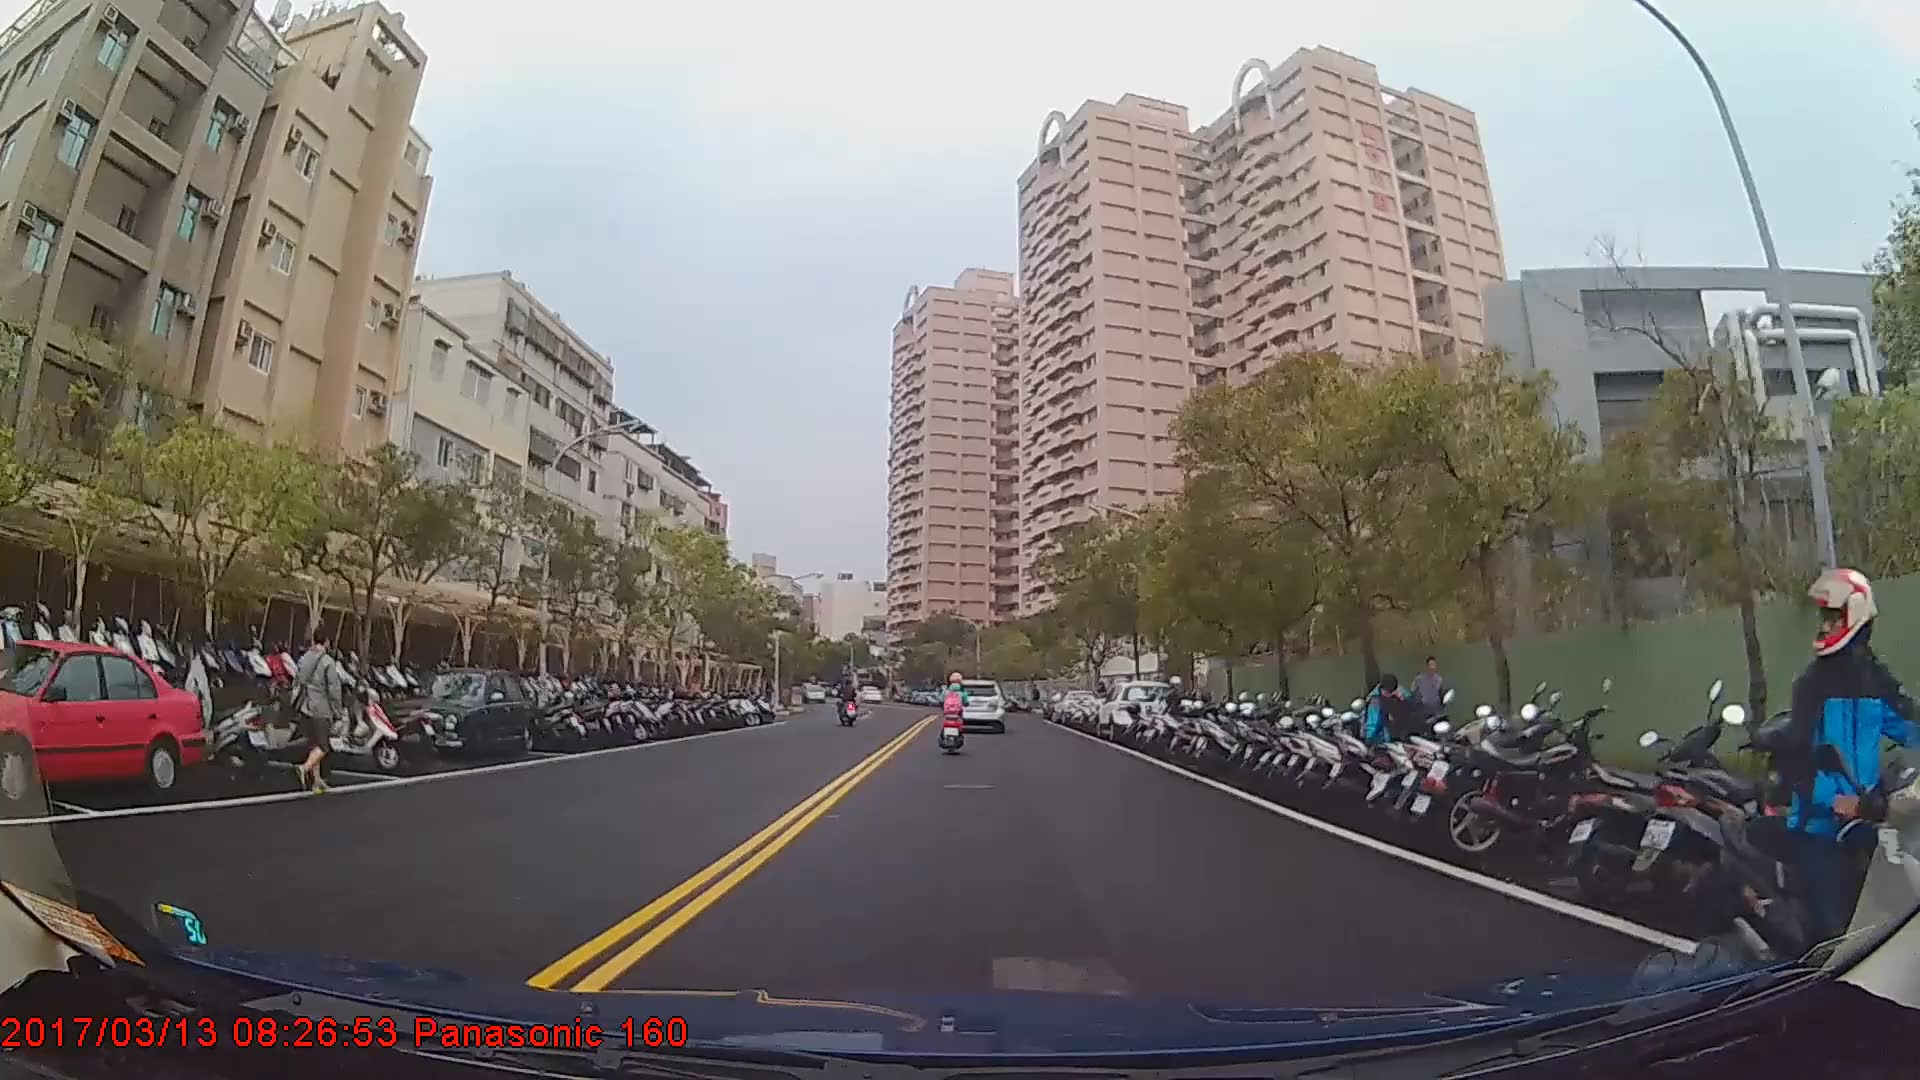pedestrian: (284, 626, 360, 797), (1366, 673, 1427, 808), (1408, 655, 1446, 760)
rider: (1718, 565, 1920, 1021), (939, 673, 972, 747), (837, 679, 859, 727)
vehicle: (0, 636, 203, 810), (384, 667, 532, 762), (1095, 680, 1180, 744), (947, 677, 1004, 729)
